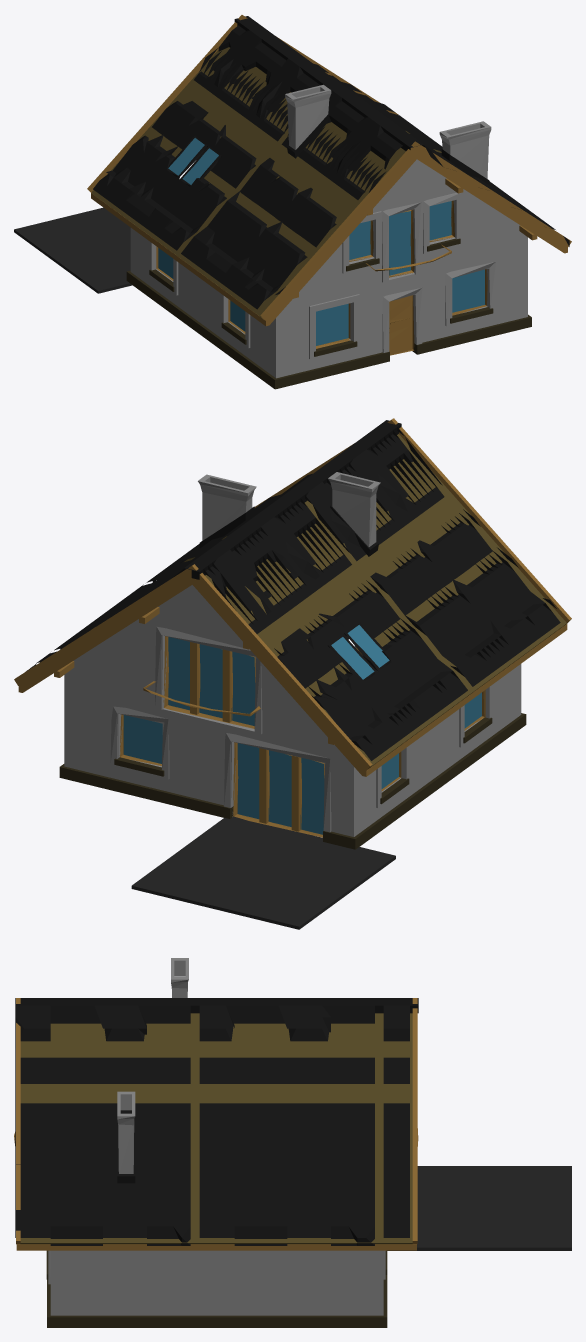
The model's file is cyprys-house.glb.
The picture shows the model from 3 angles, top to bottom: view 1: azimuth 30°, elevation 25°; view 2: azimuth 150°, elevation 25°; view 3: azimuth 270°, elevation 25°; orthographic projection. The views are drawn at different scales.
Size of the model in its own units: 11.89 by 8.48 by 15.91.
